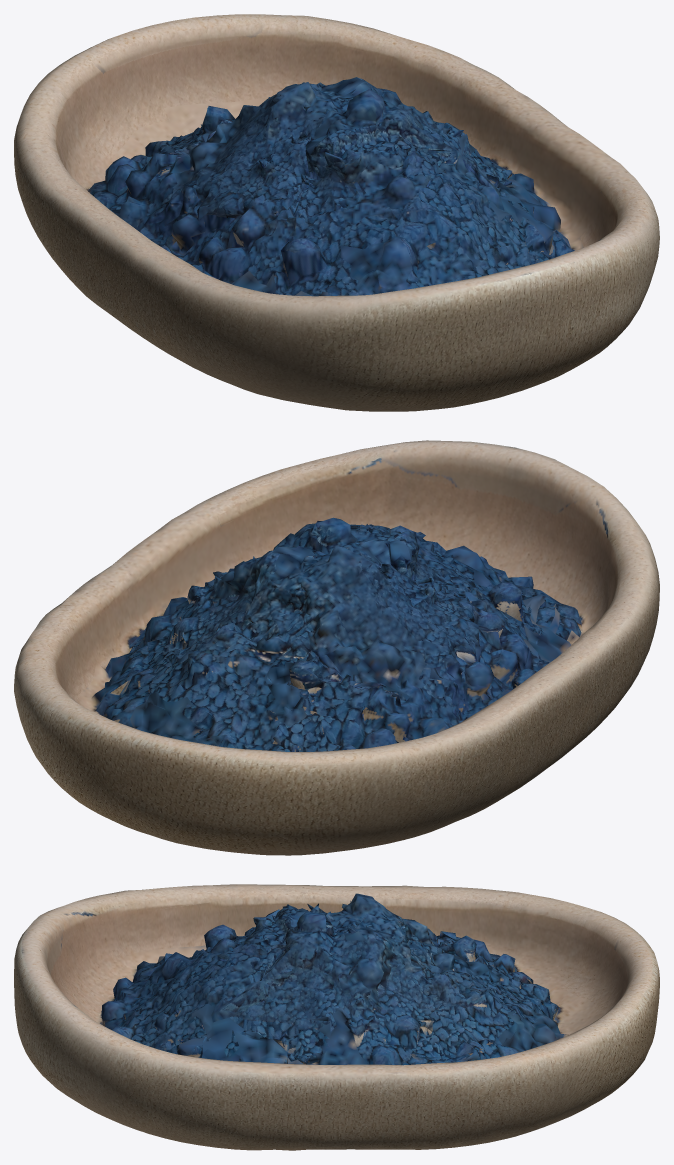
File: Prop_PowderDish_Blue.fbx
The picture shows the model from 3 angles, top to bottom: view 1: azimuth 30°, elevation 25°; view 2: azimuth 150°, elevation 25°; view 3: azimuth 270°, elevation 25°; orthographic projection. The views are drawn at different scales.
Parts seen in each view (by area): view 1: texture_mapping; view 2: texture_mapping; view 3: texture_mapping.
Part boxes in pixels (bbox=[...]): texture_mapping: bbox=[14, 14, 659, 411]; texture_mapping: bbox=[14, 440, 659, 855]; texture_mapping: bbox=[14, 884, 659, 1150].
Bounding box in the file's own units: 0.709 × 0.9994 × 0.3085.
1 material, 1 textured.
